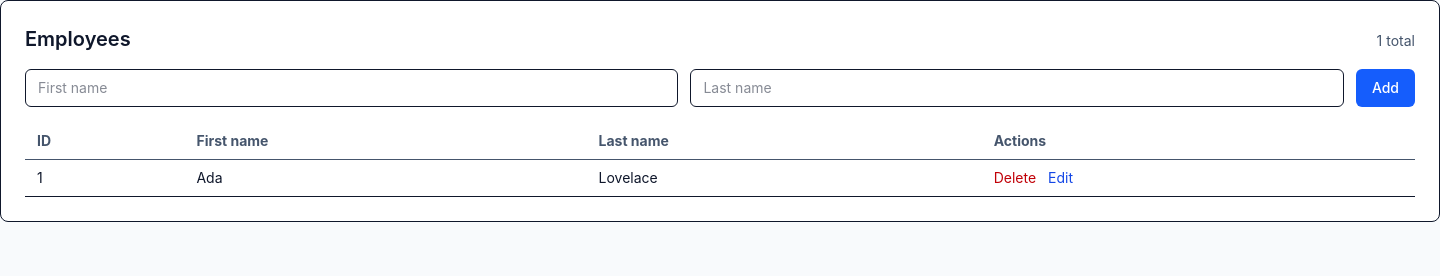
Test: EmployeesListPage › adds an employee via the form
expect the heading "Employees" is shown: met, box top-left (25, 25), bottom-right (131, 53)
Type "Jane" into the field with placeholder "First name". click: (352, 88)
box: top-left (25, 69), bottom-right (678, 107)
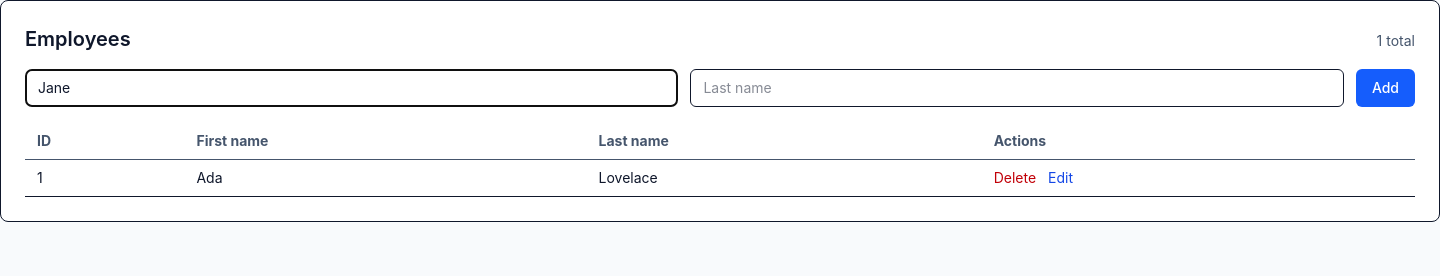
Type "Doe" into the field with placeholder "Last name". click: (1017, 88)
box: top-left (690, 69), bottom-right (1344, 107)
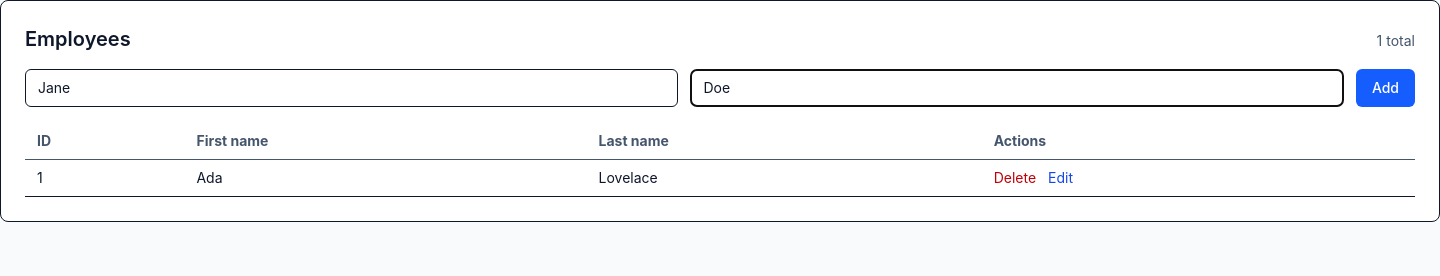
Click the button "Add". click: (1385, 88)
box: top-left (1356, 69), bottom-right (1415, 107)
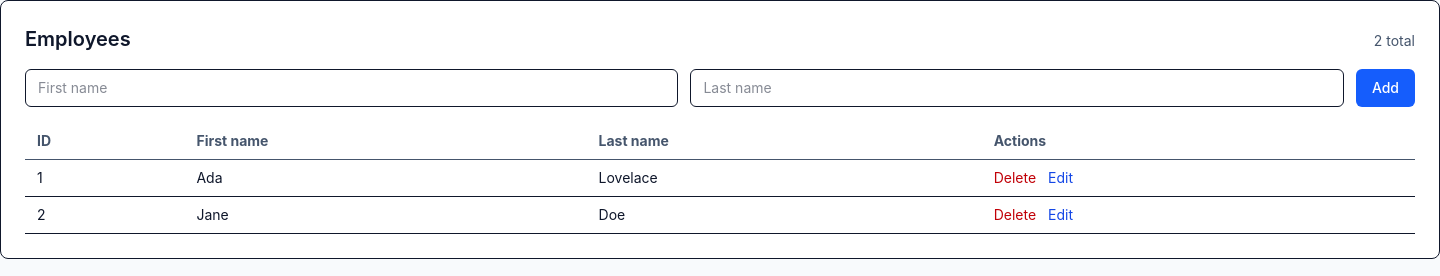
expect the text "Jane" is shown: met, box top-left (184, 197), bottom-right (586, 234)
expect the text "Doe" is shown: met, box top-left (586, 197), bottom-right (982, 234)
